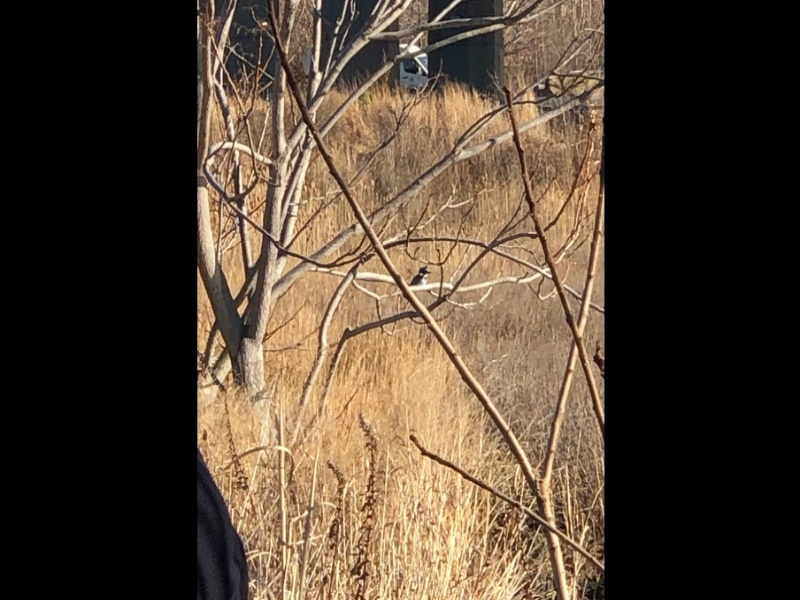kingfisher: (411, 266, 436, 287)
